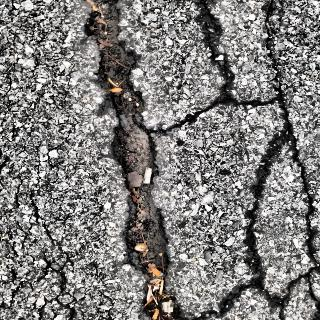crack: (193, 131, 303, 320), (260, 2, 320, 318), (164, 3, 273, 136), (0, 182, 80, 320)
pothole: (81, 1, 192, 320)
